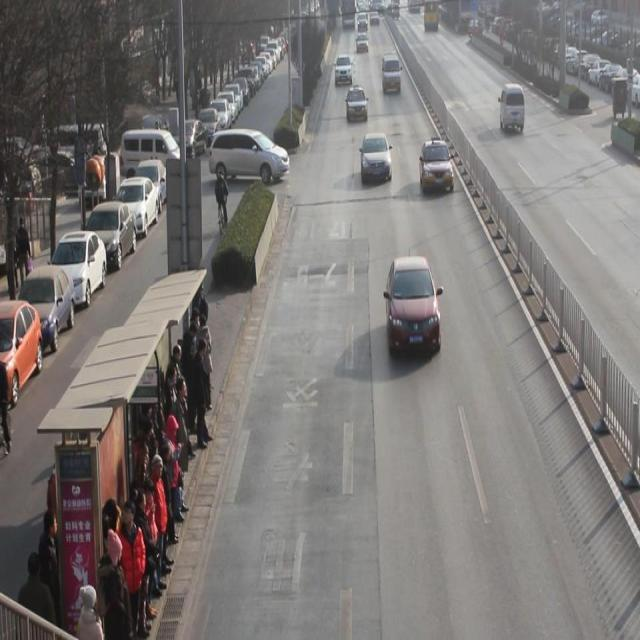car: (387, 256, 442, 354), (419, 141, 456, 194), (360, 133, 393, 185), (346, 86, 369, 123), (335, 54, 353, 85), (384, 54, 399, 83)
truck: (500, 84, 525, 134), (381, 54, 402, 97)
